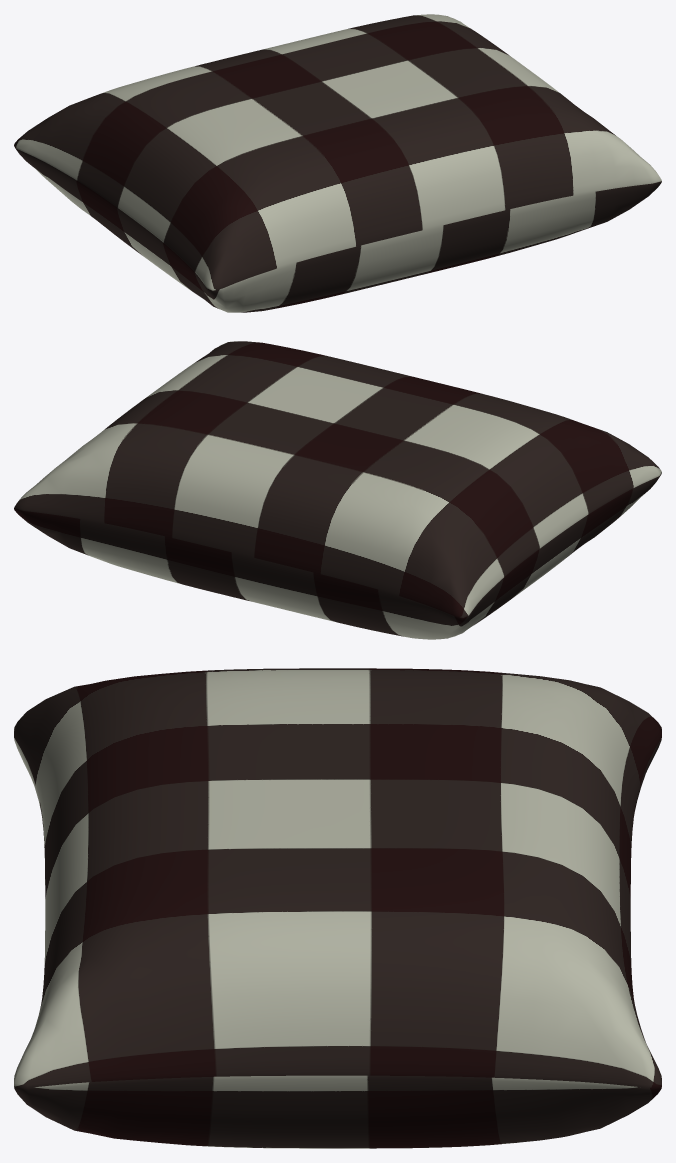
File: Pillow.fbx
3 renders of one model, top to bottom at view 1: azimuth 30°, elevation 25°; view 2: azimuth 150°, elevation 25°; view 3: azimuth 270°, elevation 25°, orthographic. The views are drawn at different scales.
Parts seen in each view (by area): view 1: Pillow_LOD0; view 2: Pillow_LOD0; view 3: Pillow_LOD0.
Part boxes in pixels (x1,y1,x2,y2): Pillow_LOD0: [14, 14, 661, 312]; Pillow_LOD0: [14, 341, 661, 639]; Pillow_LOD0: [14, 668, 661, 1148].
Size of what is drawn, in the model's own units: 0.5224 by 0.1674 by 0.3977.
Materials: 1 (1 with a texture image).
